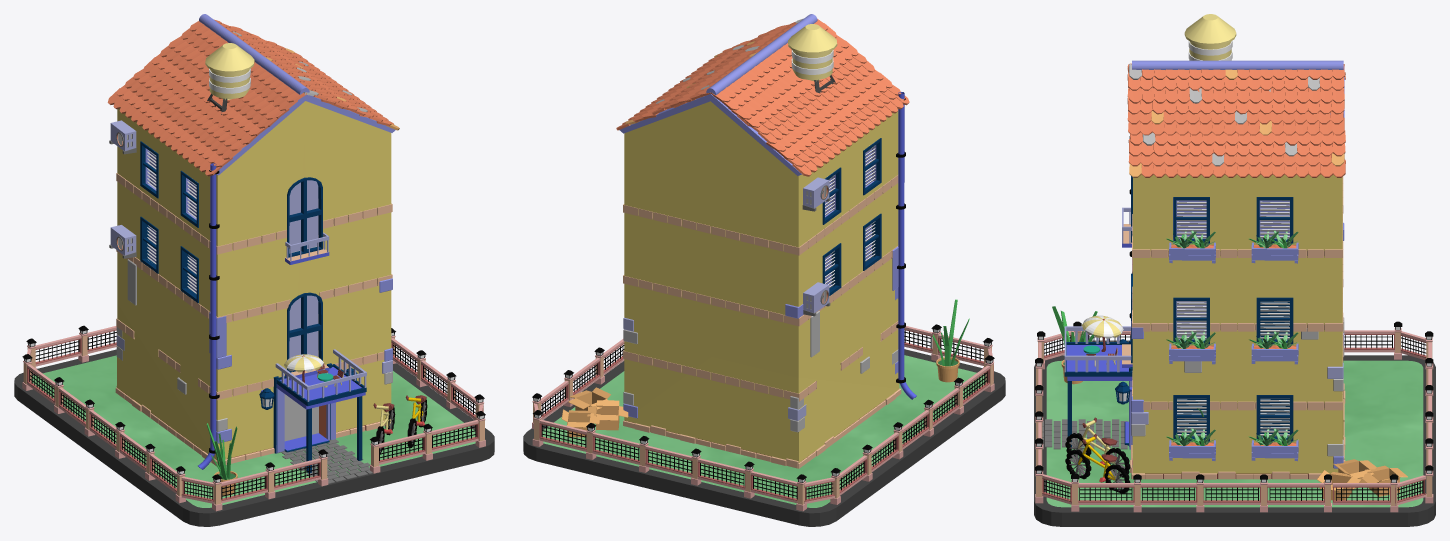
Rendered from lv3house_2.fbx.
3 renders of one model, left to right at view 1: azimuth 30°, elevation 25°; view 2: azimuth 150°, elevation 25°; view 3: azimuth 270°, elevation 25°, orthographic. The views are drawn at different scales.
Visible parts, largest first — view 1: house_lv3_2, housebase_lv3_2, housevase_lv3_2, housebicycle_lv3_yellow2, houseumbrella_lv3_2, housebicycle_lv3_red2; view 2: house_lv3_2, housebase_lv3_2, housevase_lv3_2, housecube_lv3_2_2, housecube_lv3_3_2, housecube_lv3_1_2; view 3: house_lv3_2, housebase_lv3_2, housebicycle_lv3_yellow2, housebicycle_lv3_red2, houseumbrella_lv3_2, housecube_lv3_3_2, housecube_lv3_1_2, housecube_lv3_2_2, housevase_lv3_2.
Part boxes in pixels (x1,y1,x2,y2): house_lv3_2: (107, 14, 399, 473); housebase_lv3_2: (14, 325, 494, 526); housevase_lv3_2: (206, 423, 237, 495); housebicycle_lv3_yellow2: (405, 395, 427, 447); houseumbrella_lv3_2: (284, 354, 323, 382); housebicycle_lv3_red2: (373, 403, 395, 453); house_lv3_2: (616, 14, 916, 468); housebase_lv3_2: (523, 324, 1005, 526); housevase_lv3_2: (932, 299, 969, 382); housecube_lv3_2_2: (587, 400, 628, 430); housecube_lv3_3_2: (561, 409, 600, 437); housecube_lv3_1_2: (568, 387, 610, 410); house_lv3_2: (1064, 14, 1345, 479); housebase_lv3_2: (1034, 321, 1435, 526); housebicycle_lv3_yellow2: (1065, 434, 1130, 493); housebicycle_lv3_red2: (1065, 417, 1130, 477); houseumbrella_lv3_2: (1082, 315, 1123, 351); housecube_lv3_3_2: (1361, 465, 1407, 496); housecube_lv3_1_2: (1317, 470, 1360, 500); housecube_lv3_2_2: (1333, 459, 1376, 488); housevase_lv3_2: (1052, 306, 1097, 384).
Size of the model in its own units: 2844 by 3475 by 3068.
